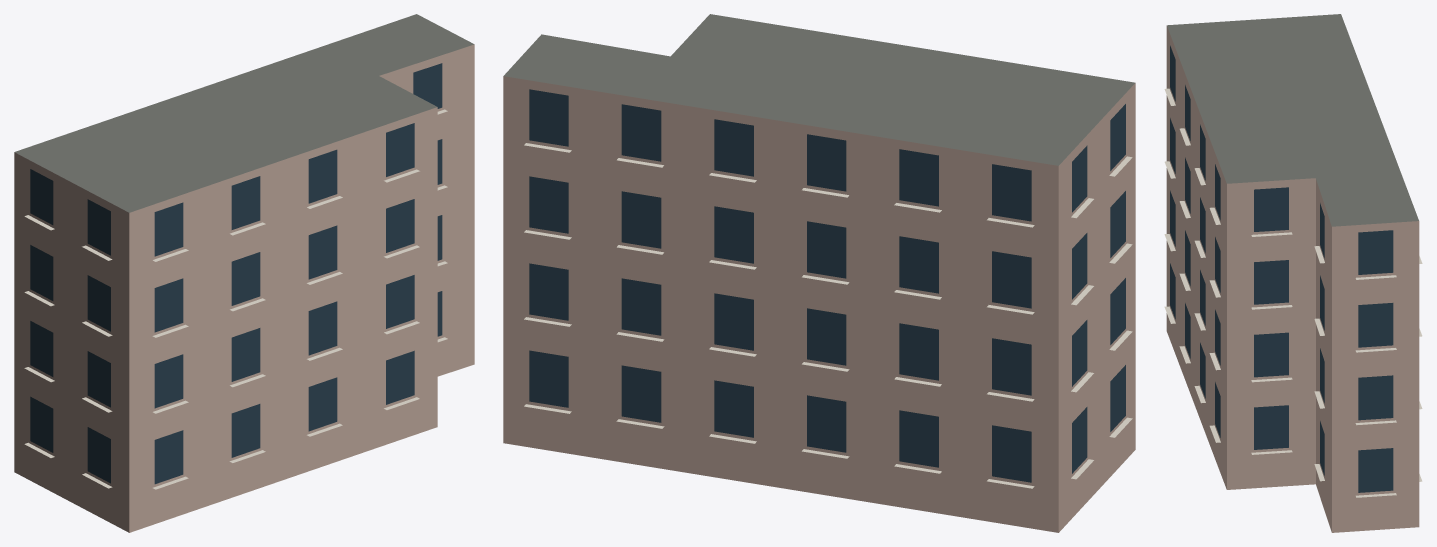
3 views of the same model, side by side, from view 1: azimuth 30°, elevation 25°; view 2: azimuth 150°, elevation 25°; view 3: azimuth 270°, elevation 25° (orthographic). The views are drawn at different scales.
Visible parts, largest first — view 1: Footprint 0, Inferred window bays, Window sills; view 2: Footprint 0, Inferred window bays, Window sills; view 3: Footprint 0, Inferred window bays, Window sills.
Part boxes in pixels (box(x1,y1,x2,y2)): Footprint 0: box(14, 14, 474, 532); Inferred window bays: box(30, 63, 442, 484); Window sills: box(24, 109, 447, 489); Footprint 0: box(503, 14, 1135, 532); Inferred window bays: box(529, 89, 1125, 482); Window sills: box(524, 143, 1132, 488); Footprint 0: box(1166, 14, 1419, 532); Inferred window bays: box(1170, 45, 1393, 492); Window sills: box(1164, 88, 1422, 497).
Size of the model in its own units: 17.88 by 11.86 by 9.06.
